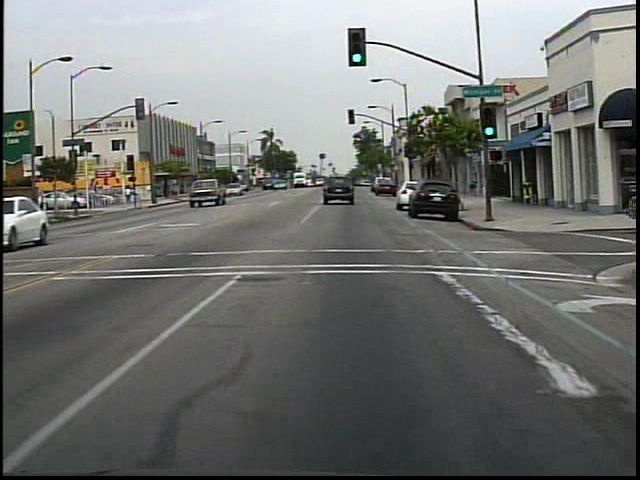person: (126, 182, 134, 207)
